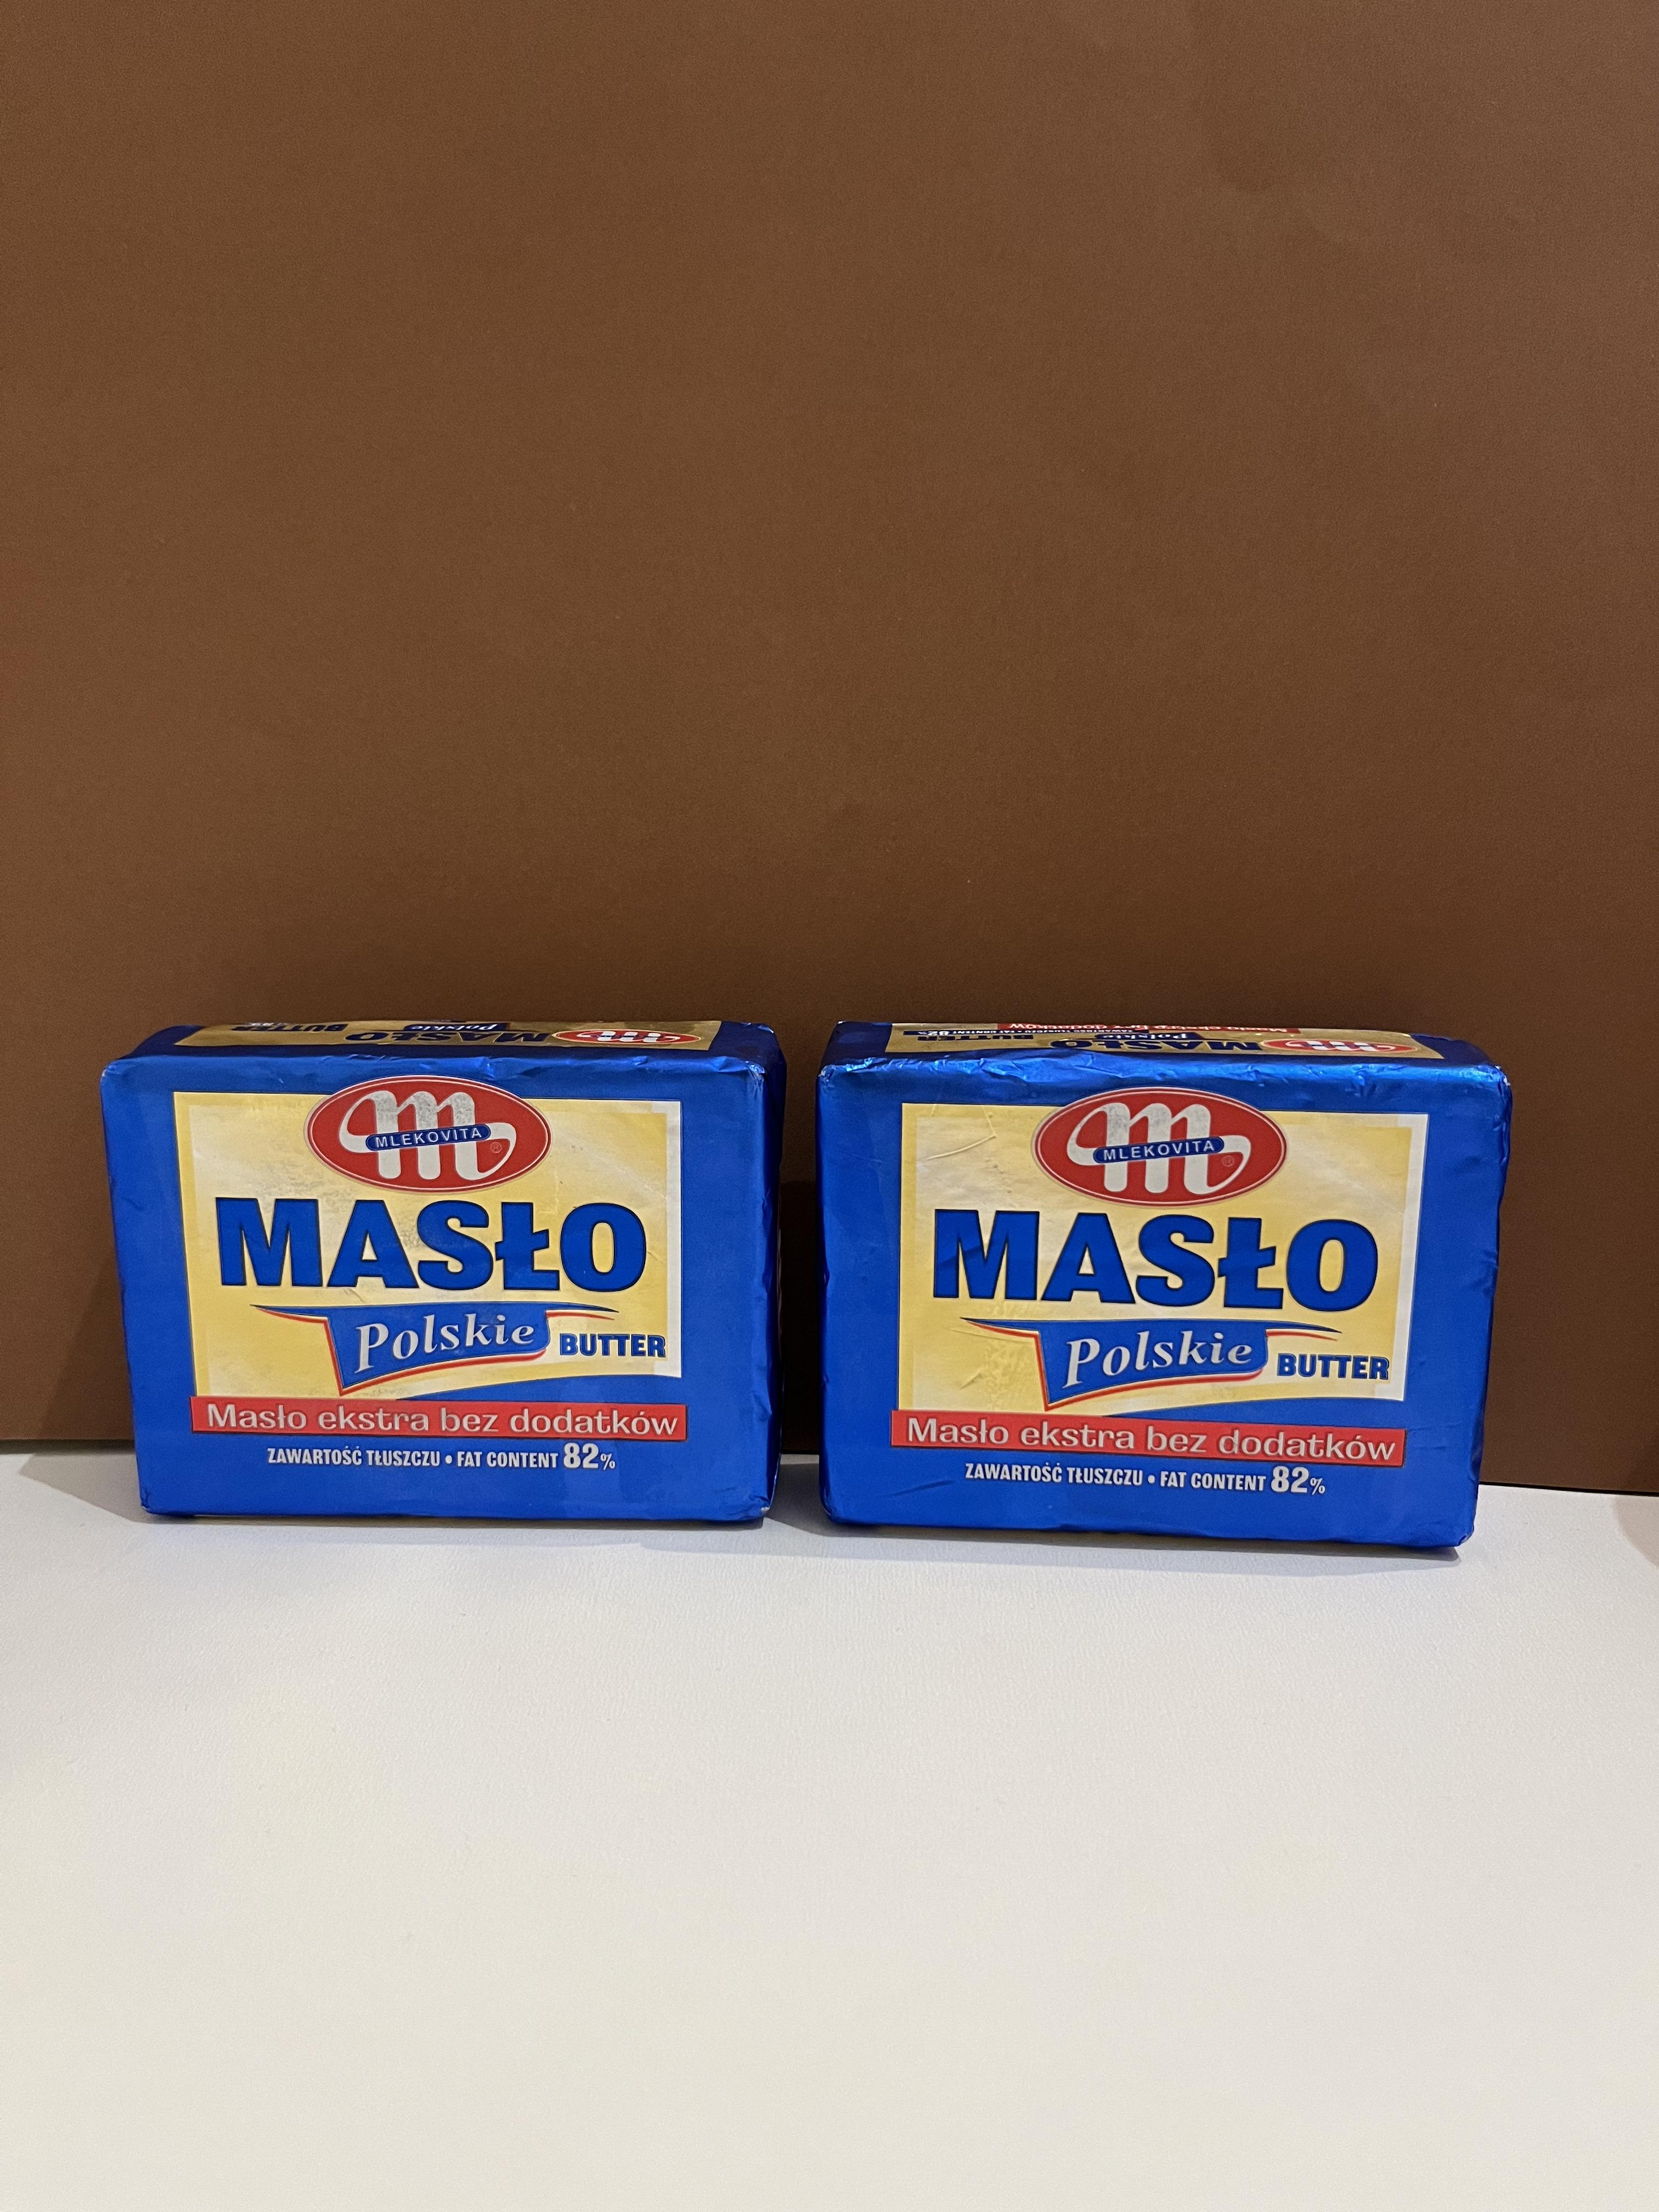Butter: (826, 1012, 1509, 1573), (84, 1015, 786, 1554)
